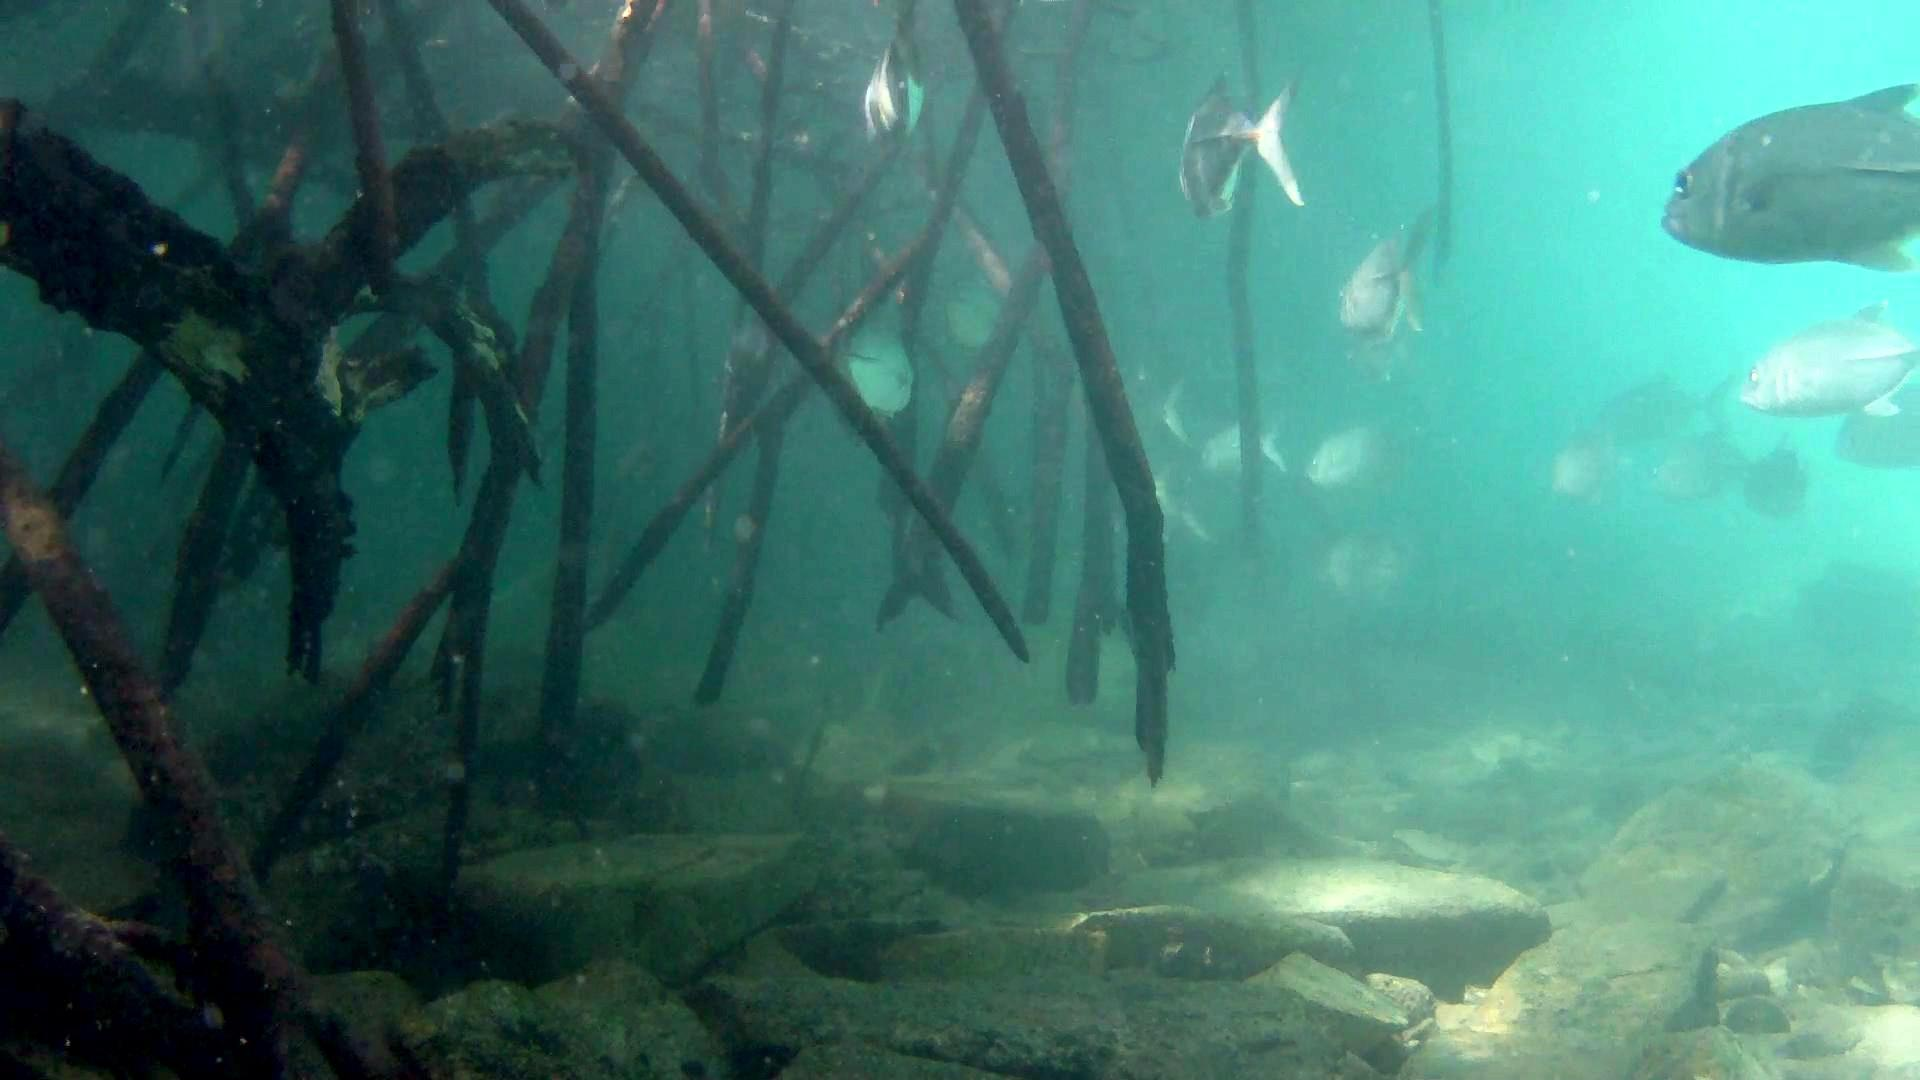caranx: (1653, 74, 1920, 281), (1167, 57, 1313, 227)
